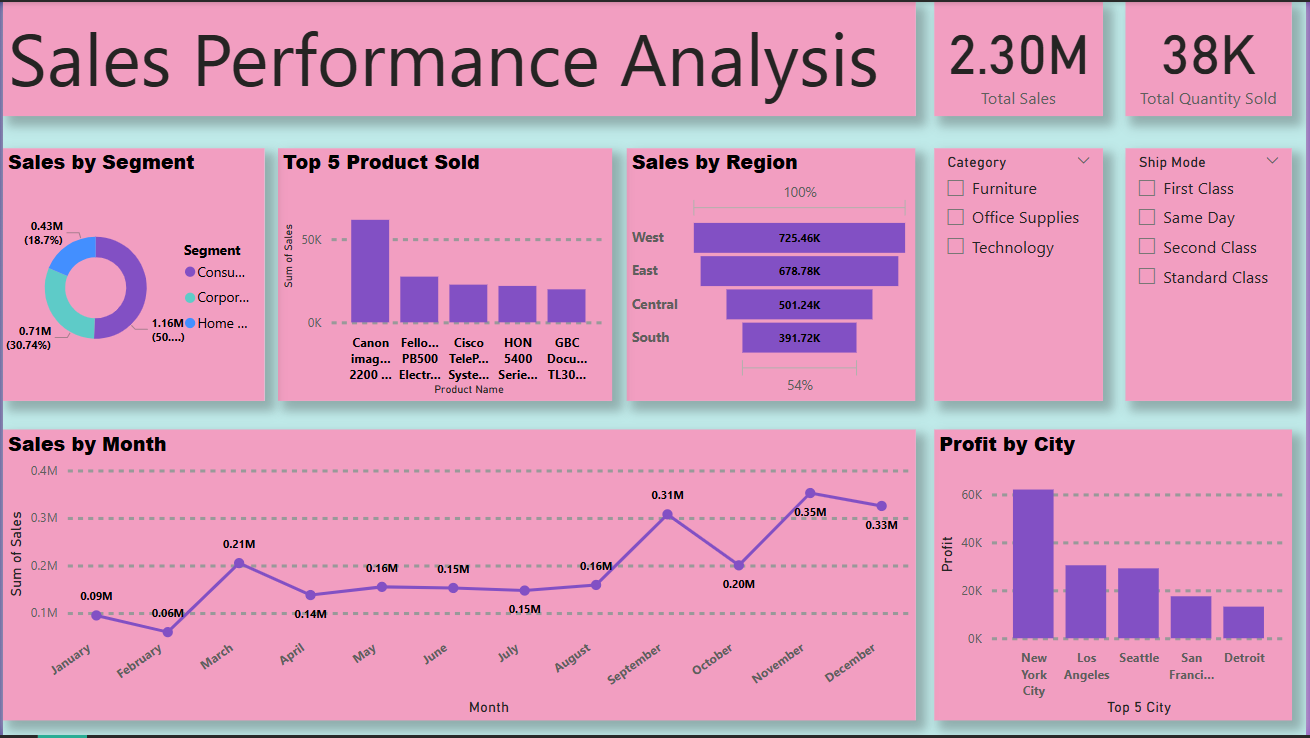

This screenshot's page, from the dashboard's own definition file:
{"tool":"powerbi","page":{"name":"Page 1","canvas":[1280,720],"ordinal":0},"visuals":[{"type":"columnChart","title":"Profit by City","fields":{"Y":["Sum(Sample - Superstore.Profit)"],"Category":["Sample - Superstore.City"]},"box":[914.1,419.6,350.9,285.9],"z":0},{"type":"funnel","title":"Sales by Region","fields":{"Category":["Sample - Superstore.Region"],"Y":["Sum(Sample - Superstore.Sales)"]},"box":[612.3,143.6,283.4,247.9],"z":1000},{"type":"lineChart","title":"Sales by Month","fields":{"Category":["Sample - Superstore.Order Date.Variation.Date Hierarchy.Month"],"Y":["Sum(Sample - Superstore.Sales)"]},"box":[0,419.6,895.7,285.9],"z":2000},{"type":"textbox","box":[0,0,895.7,112],"z":3000},{"type":"slicer","fields":{"Values":["Sample - Superstore.Ship Mode"]},"box":[1101.8,143.6,163.2,247.9],"z":4000},{"type":"columnChart","title":"Top 5 Product Sold ","fields":{"Category":["Sample - Superstore.Product Name"],"Y":["Sum(Sample - Superstore.Sales)"]},"box":[269.9,143.6,327.6,247.9],"z":5000},{"type":"slicer","fields":{"Values":["Sample - Superstore.Category"]},"box":[914.1,143.6,165.6,247.9],"z":6000},{"type":"donutChart","title":"Sales by Segment","fields":{"Y":["Sum(Sample - Superstore.Sales)"],"Category":["Sample - Superstore.Segment"]},"box":[0,143.6,256.4,247.9],"z":7000},{"type":"card","fields":{"Values":["Sample - Superstore.Total Sales"]},"box":[914.1,0,165.6,111.7],"z":8000},{"type":"card","fields":{"Values":["Sample - Superstore.Total Quantity Sold"]},"box":[1101.8,0,163.2,111.7],"z":9000}]}

Visuals, with their boxes in screenshot pixels (x1, y1, x2, y2), scaled from the page's 1280x720 canvas onto the 1310x738 screenshot:
"Profit by City" columnChart: [936, 430, 1295, 723]
"Sales by Region" funnel: [627, 147, 917, 401]
"Sales by Month" lineChart: [0, 430, 917, 723]
textbox: [0, 0, 917, 115]
slicer - Sample - Superstore.Ship Mode: [1128, 147, 1295, 401]
"Top 5 Product Sold " columnChart: [276, 147, 612, 401]
slicer - Sample - Superstore.Category: [936, 147, 1105, 401]
"Sales by Segment" donutChart: [0, 147, 262, 401]
card - Sample - Superstore.Total Sales: [936, 0, 1105, 114]
card - Sample - Superstore.Total Quantity Sold: [1128, 0, 1295, 114]
